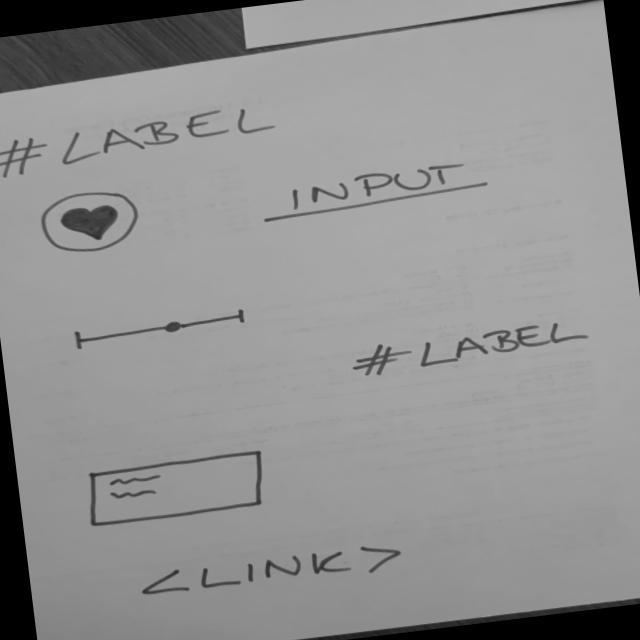icon-button: (37, 185, 147, 260)
input: (255, 153, 500, 226)
label: (1, 98, 283, 183), (346, 312, 601, 385)
link: (136, 537, 408, 606)
slider: (69, 306, 256, 353)
textarea: (81, 446, 274, 529)
